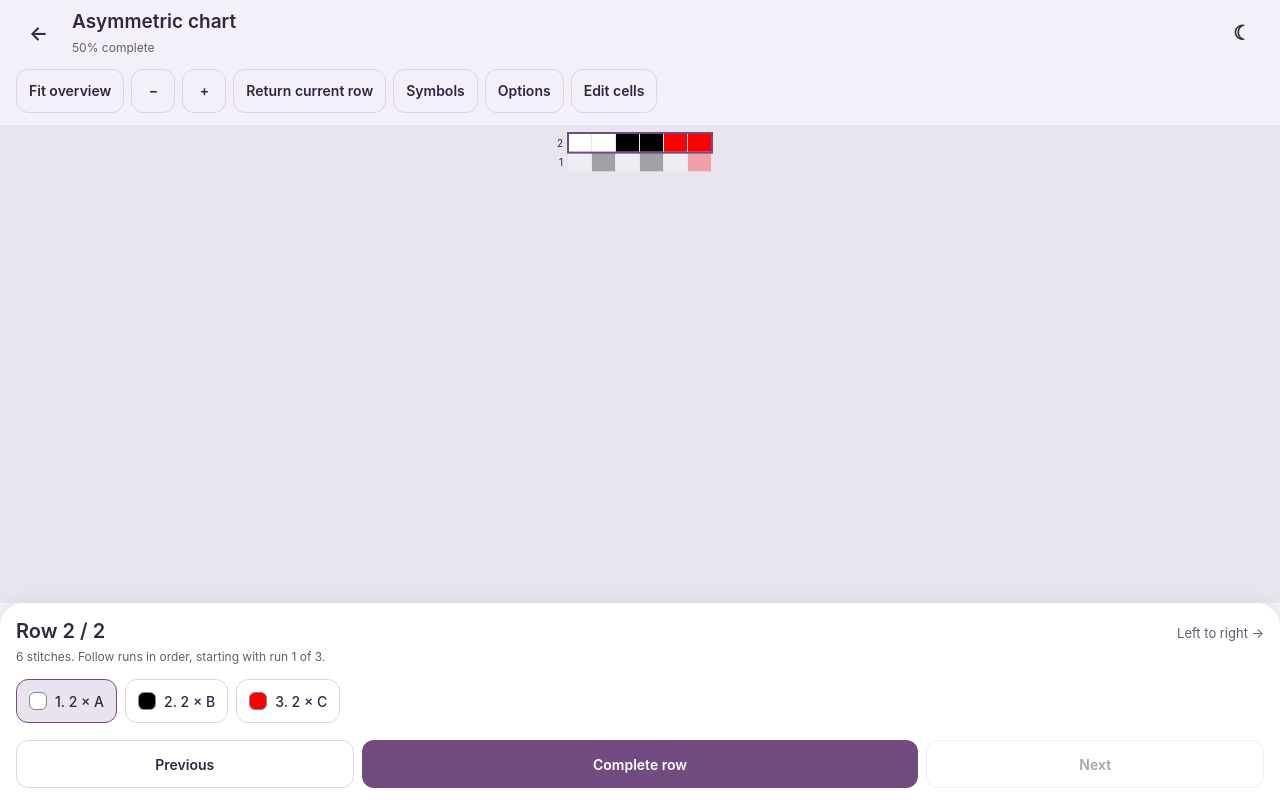
Test: chart reader interactions › keeps the edit draft recoverable if saving a version fails
Click the button "Edit cells": (614, 91) [571,69,658,113]
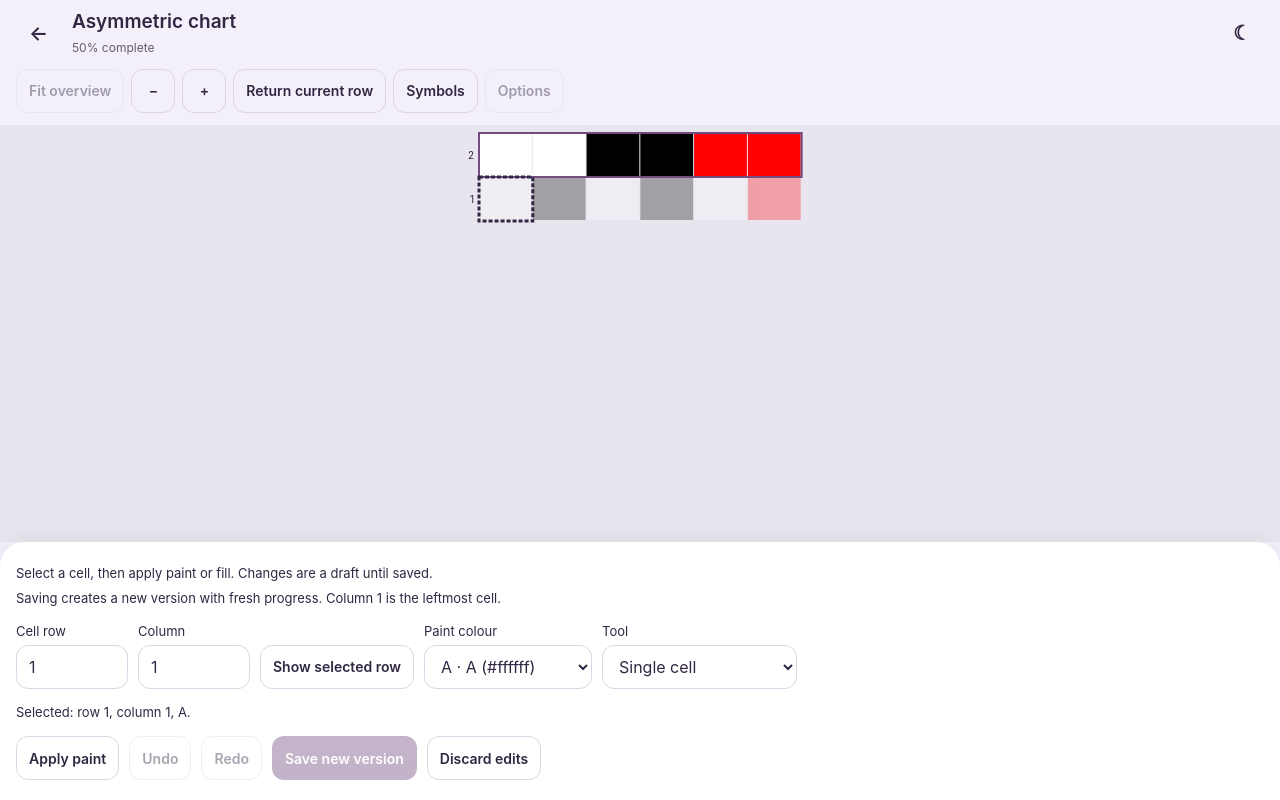
Select "C · C (#ff0000)" in the dropdown labelled "Paint colour": (508, 666) [424,644,592,688]
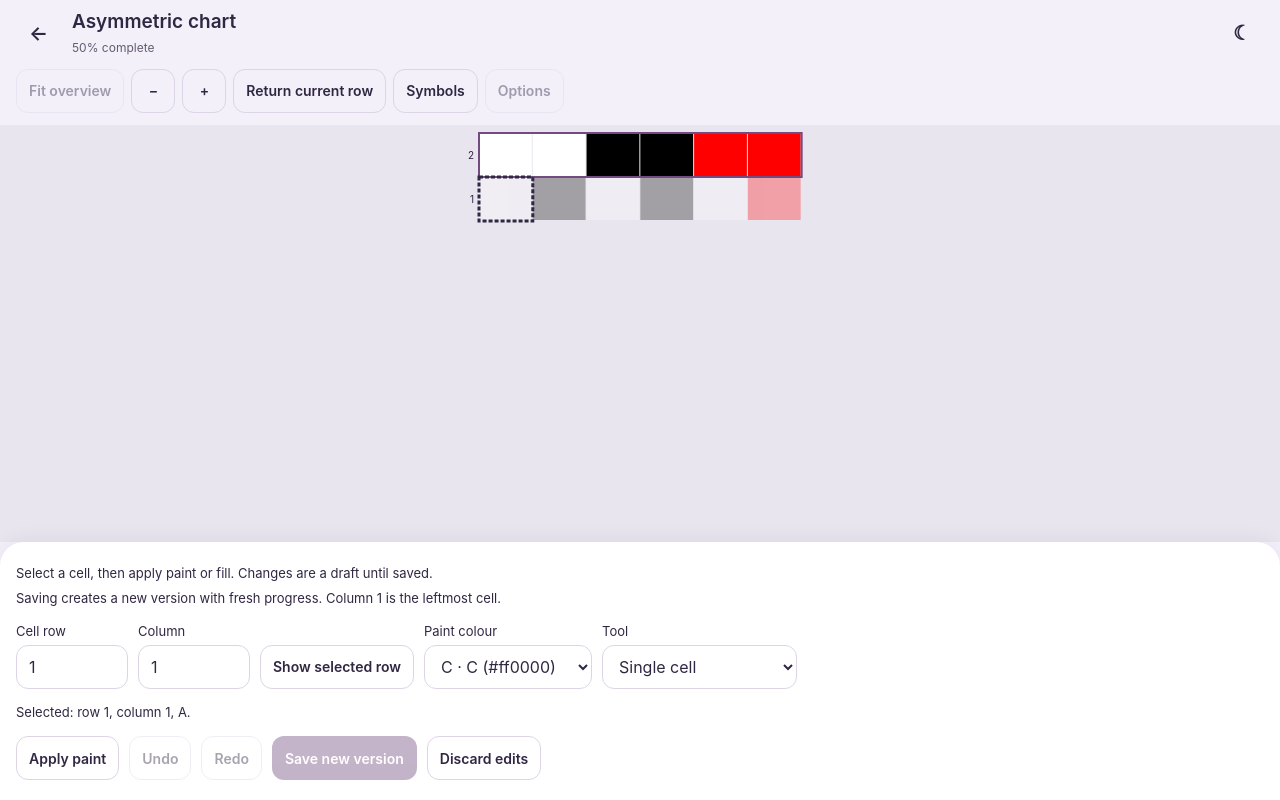
Click the button "Apply paint": (68, 758) [16,736,119,780]
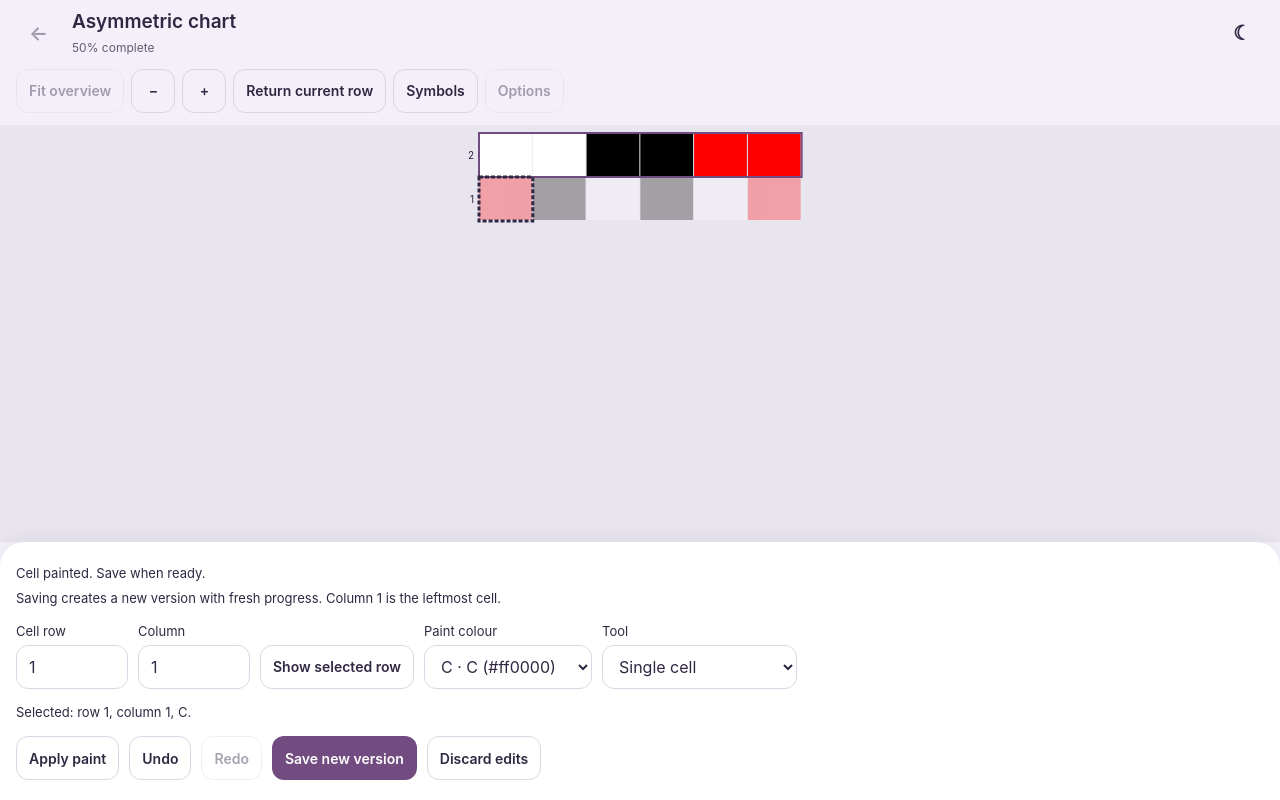
Click the button "Save new version": (344, 758) [272,736,417,780]
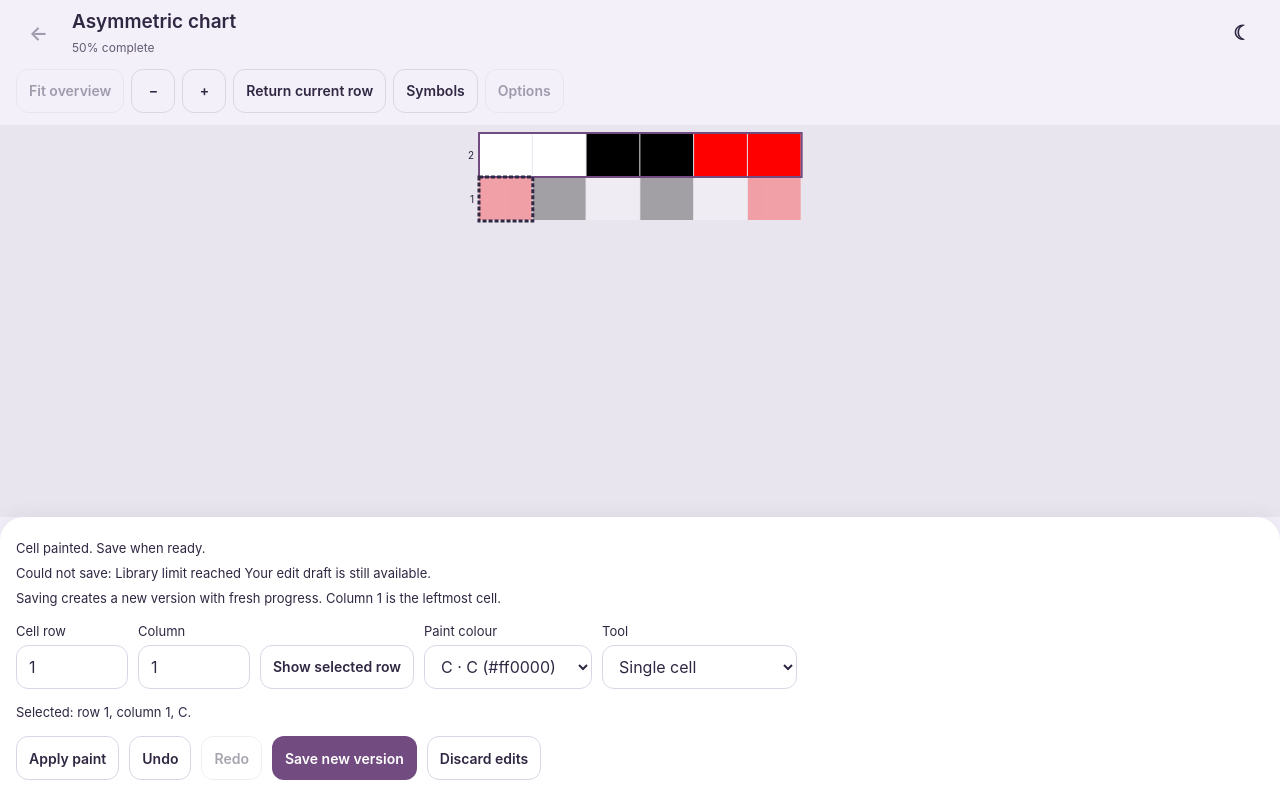
Now the button "Undo" is enabled, box [129,736,191,780]
Now the message "Could not save: Library limit reached Your edit draft is still available." is shown, box [16,565,431,581]
